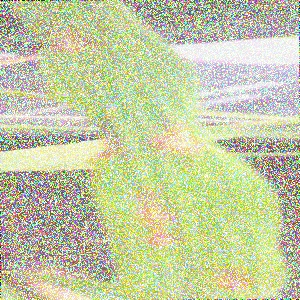Brown_Spot: (33, 16, 103, 70), (148, 109, 205, 166), (134, 177, 183, 227), (209, 258, 257, 299), (137, 228, 190, 262)
